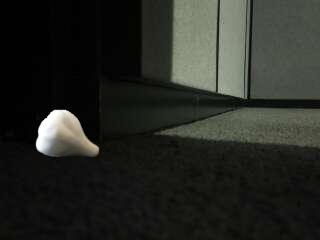Garlic: (35, 108, 102, 161)
